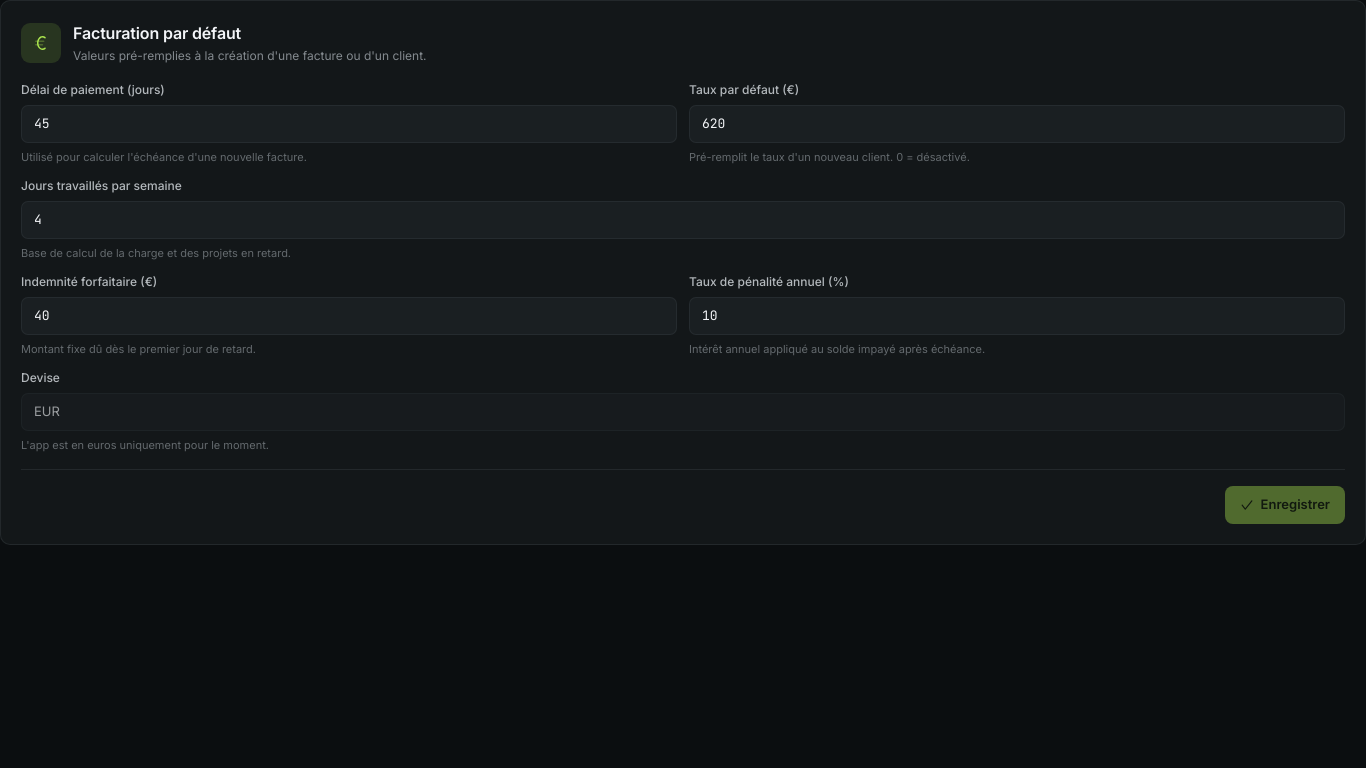
Test: BillingDefaultsCard › keeps the save button disabled until a value actually changes
The width and height of the screenshot is (1366, 768).
Expected: the button "Enregistrer" is disabled, [1225,486,1345,524]
Step 1. Replace the text in the number field labelled "Délai de paiement (jours)" with "60" → (349, 124), box [21,105,677,142]
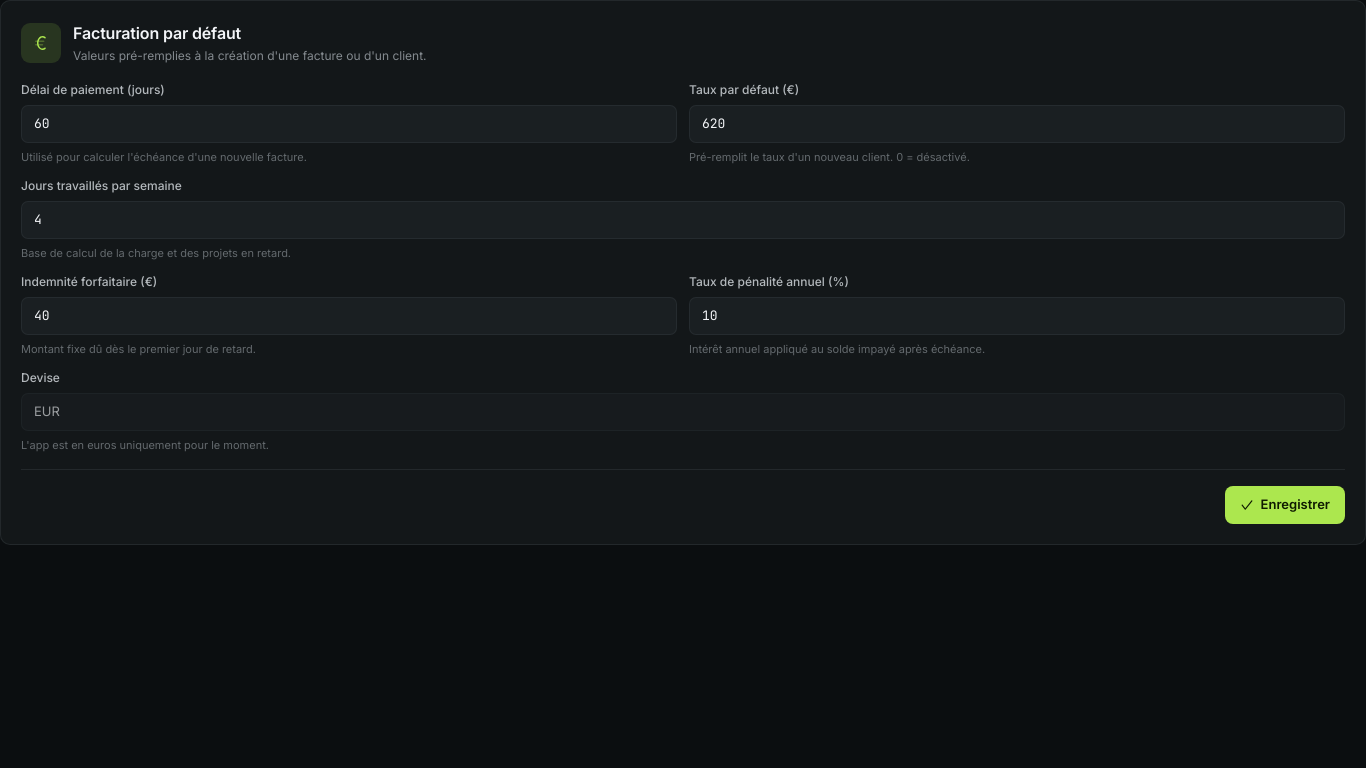
Expected: the button "Enregistrer" is enabled, [1225,486,1345,524]
